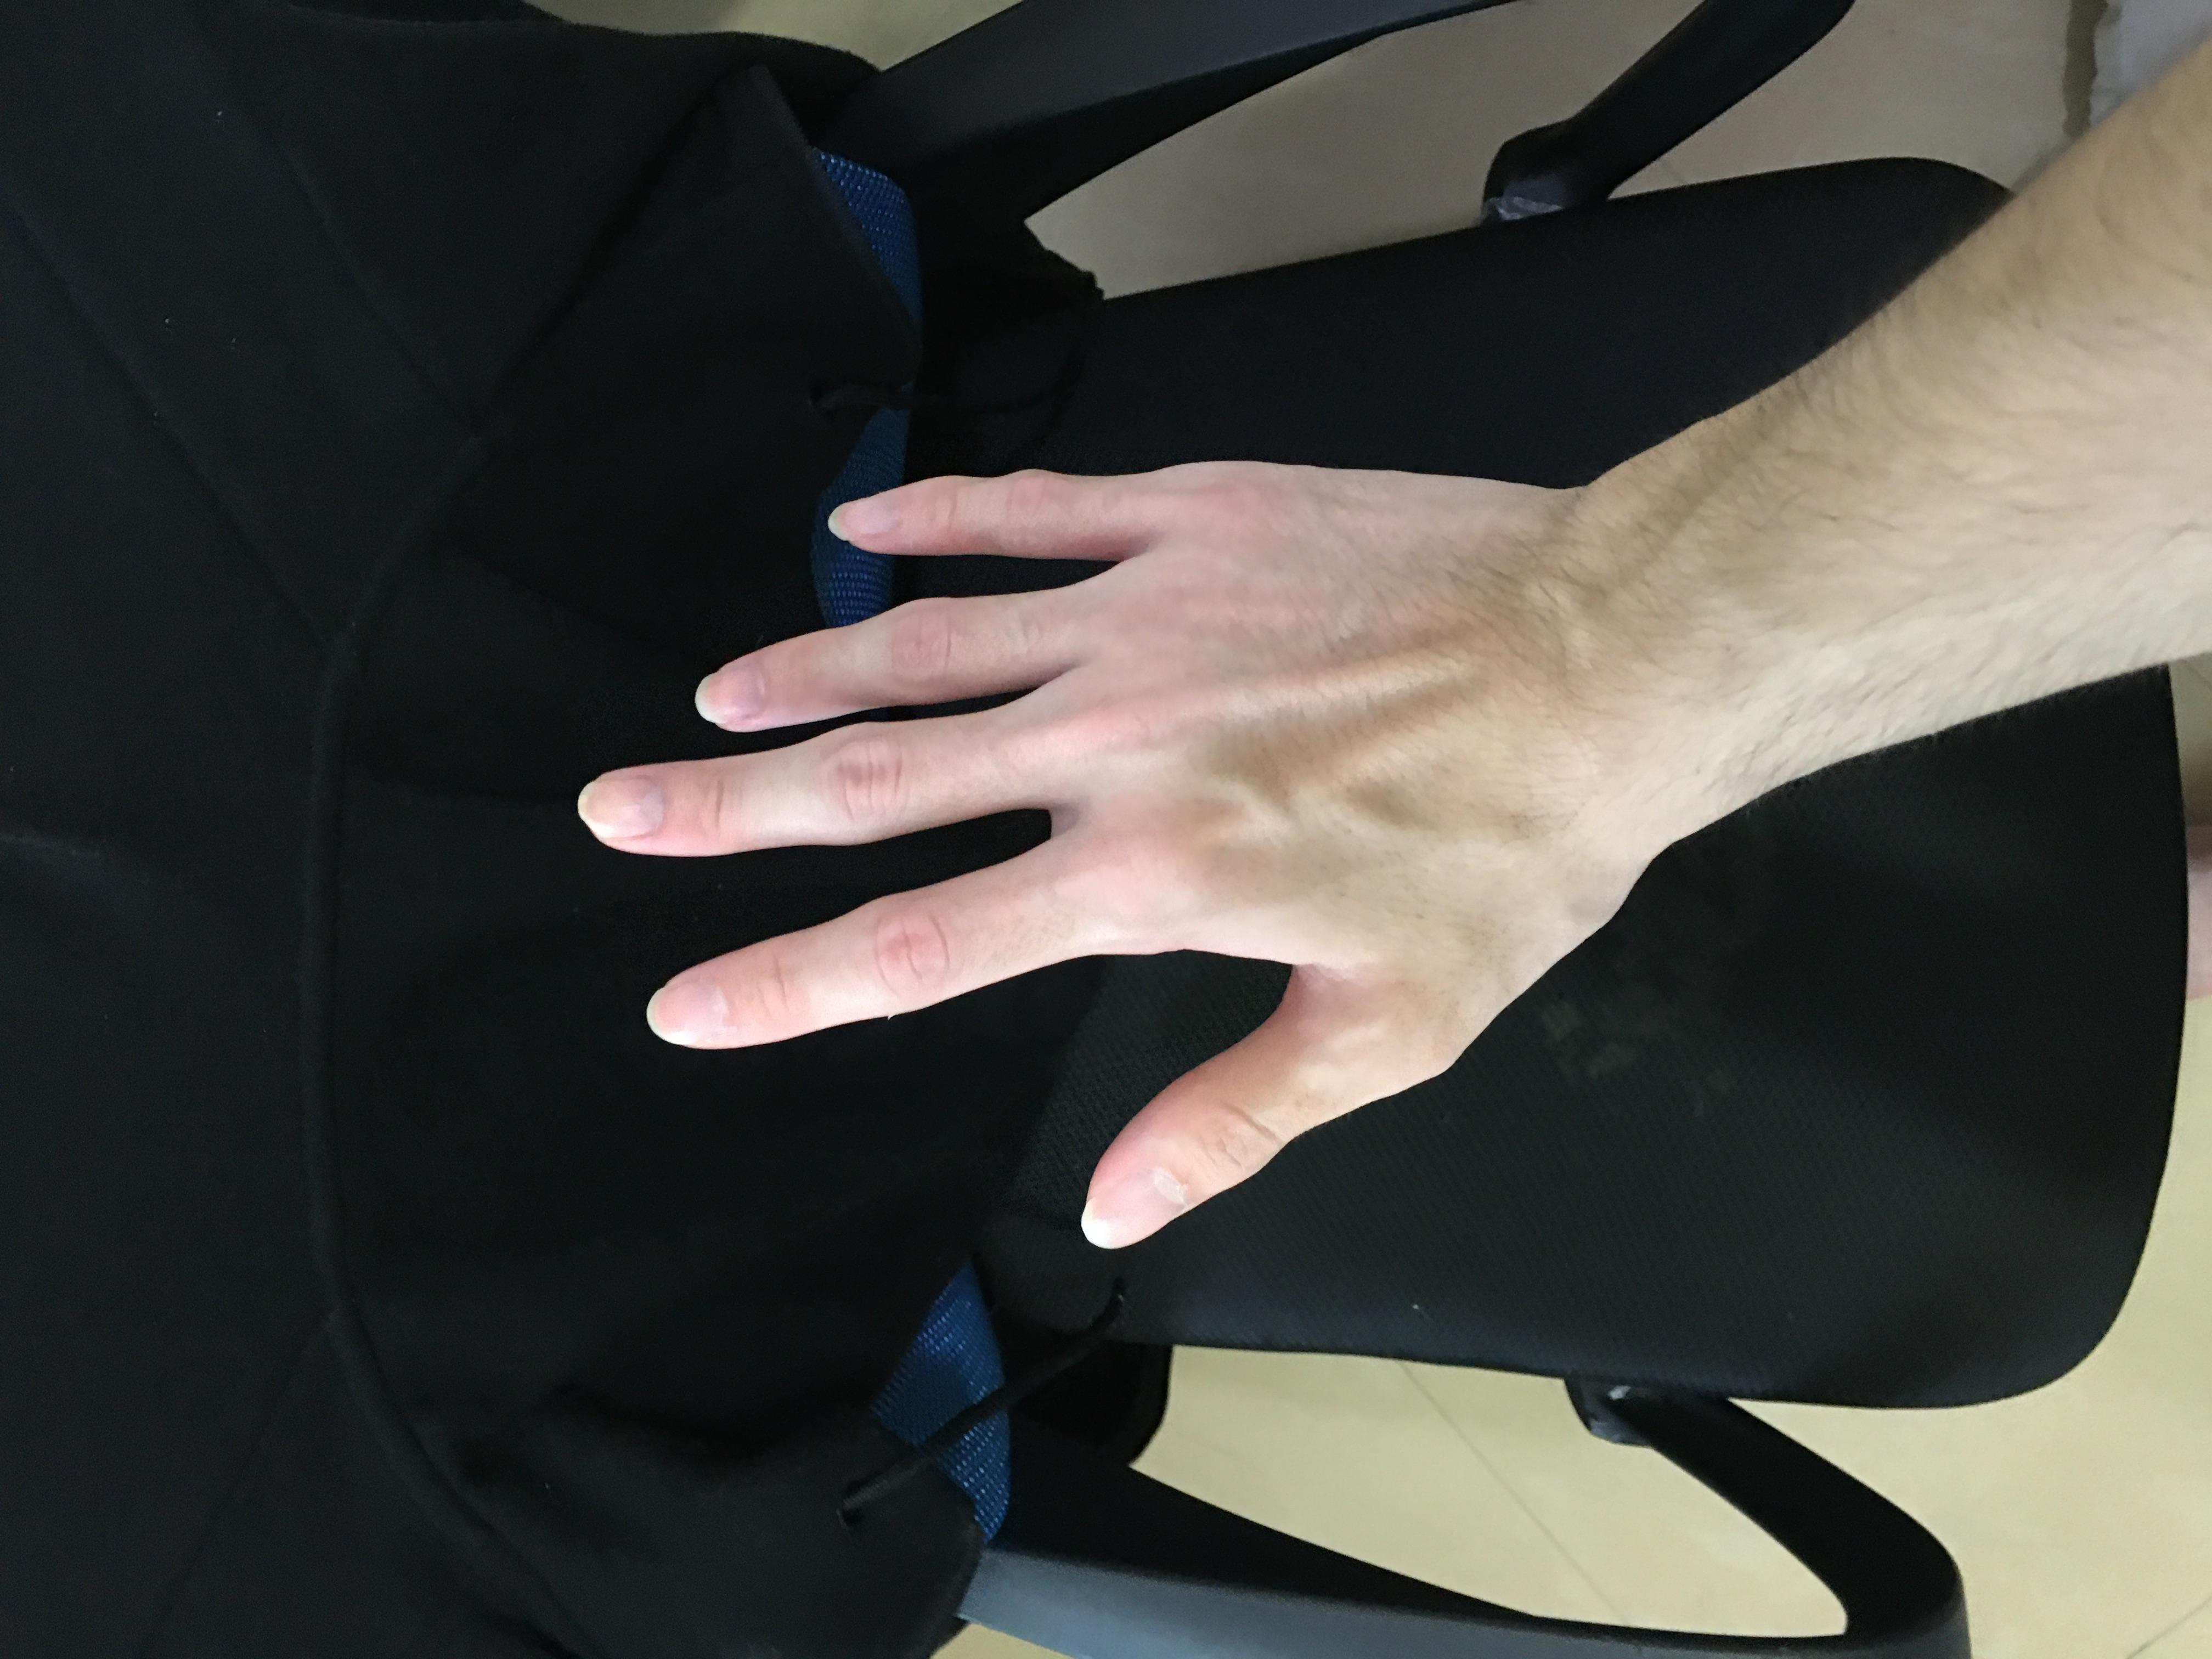hand: (528, 416, 1613, 1207)
